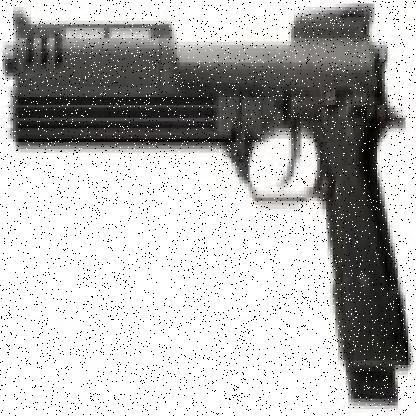pistol: (5, 3, 413, 374)
